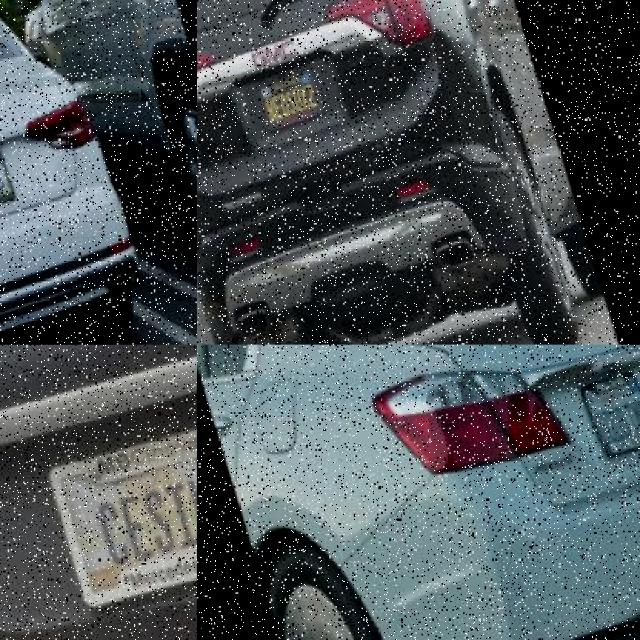licenseplate: (45, 428, 197, 609), (577, 369, 640, 457), (250, 65, 322, 127), (0, 135, 38, 212)
